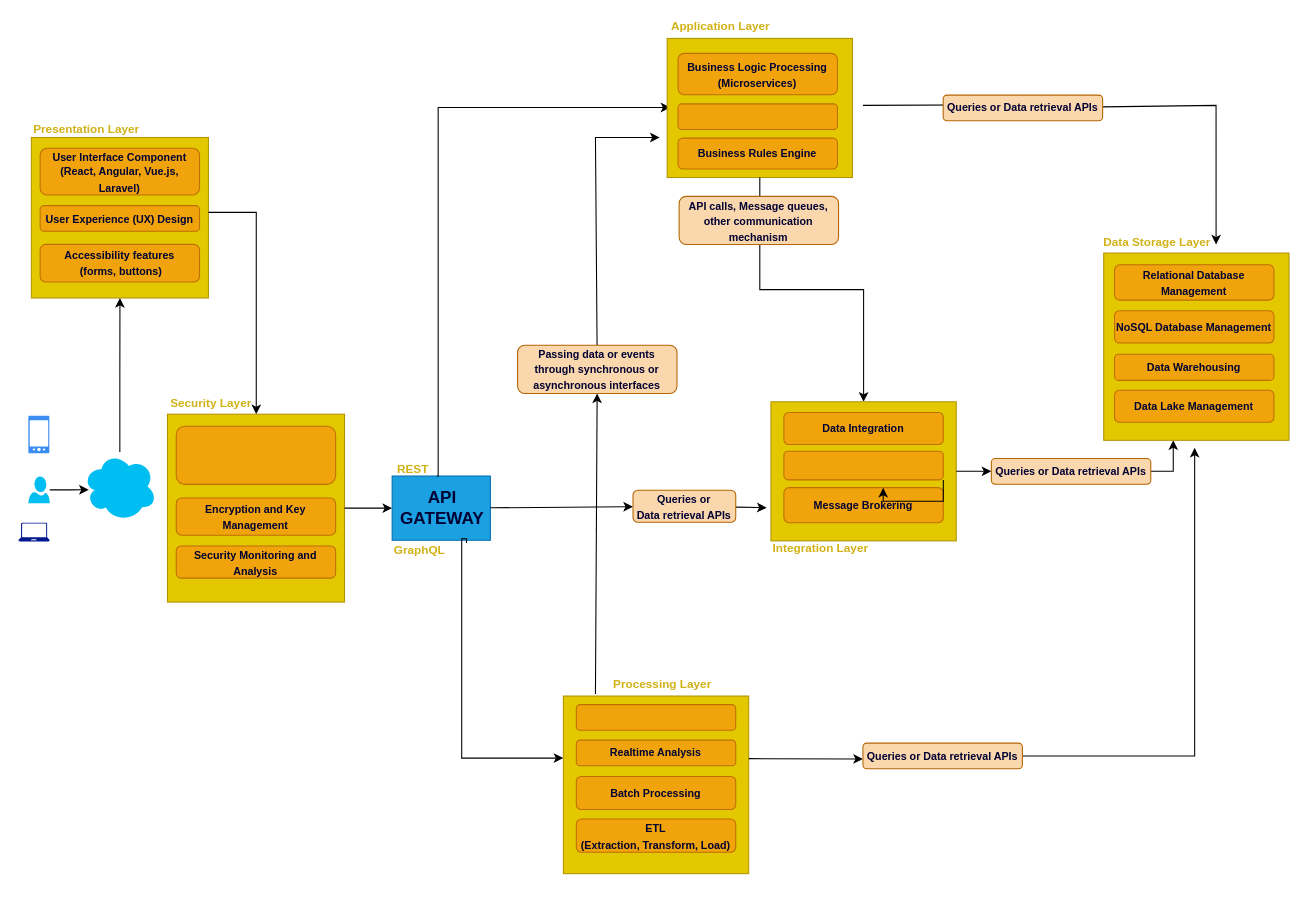
Some shapes in this 1308 by 918 pixel diagram are drawn without their labels. The shapes that lost their labels are listed below. From the top down, each one's centre as x and y in pixels, then its label:
the point at 757,116: Workflow Management
the point at 255,454: Authentication and Authorization Service (0Auth2, JWT)
the point at 863,465: API Management
the point at 119,486: Internet
the point at 655,717: Data Processing
